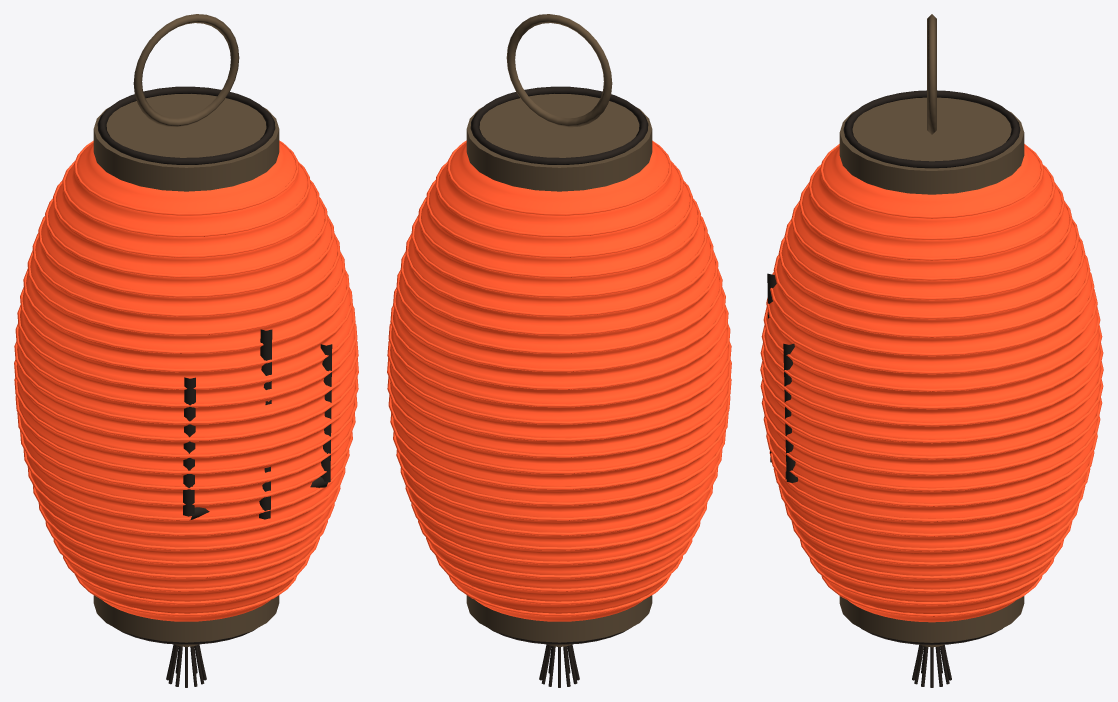
The model's file is paper-lantern.glb.
3 renders of one model, left to right at view 1: azimuth 30°, elevation 25°; view 2: azimuth 150°, elevation 25°; view 3: azimuth 270°, elevation 25°, orthographic.
Parts seen in each view (by area): view 1: Original ribbed paper lantern; view 2: Original ribbed paper lantern; view 3: Original ribbed paper lantern.
Boxes of the visible parts, <box> form: Original ribbed paper lantern: <box>14,14,358,687</box>; Original ribbed paper lantern: <box>387,14,731,687</box>; Original ribbed paper lantern: <box>760,14,1103,687</box>.
Bounding box in the file's own units: 0.462 × 0.98 × 0.462.
